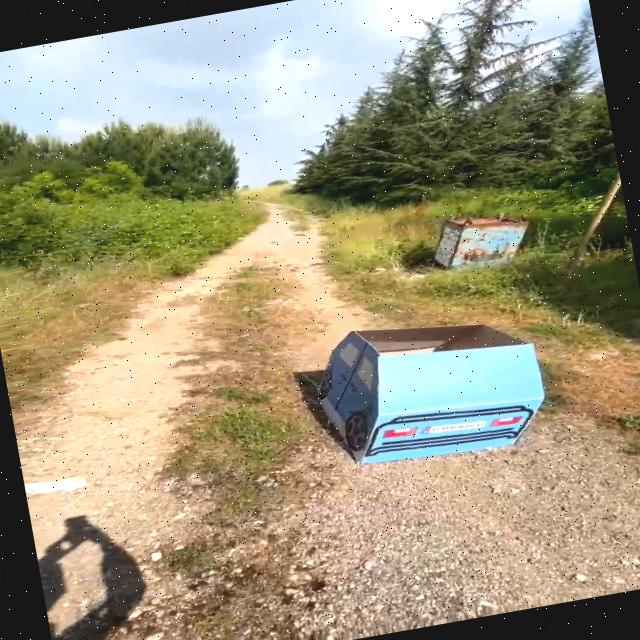blue_car: (277, 272, 591, 499)
